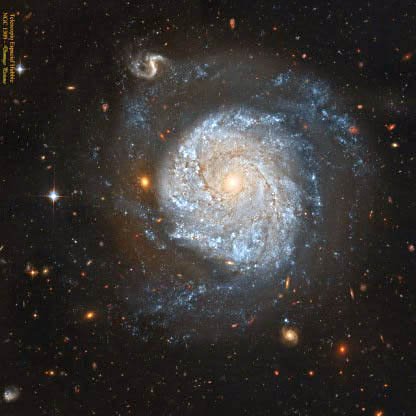NGC 1309: (76, 35, 368, 373)
